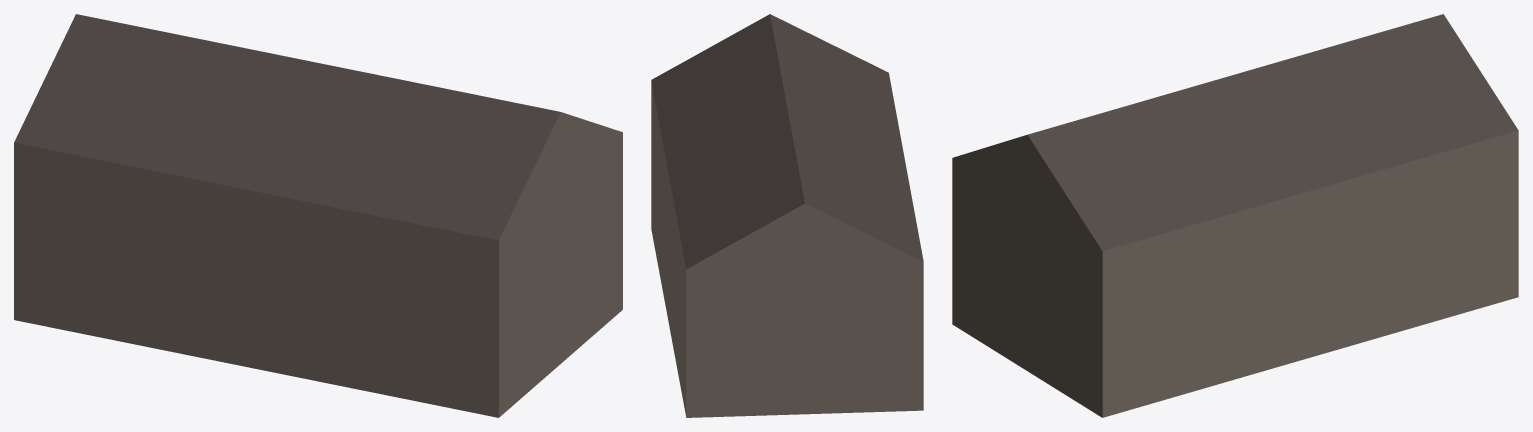
The picture shows the model from 3 angles, left to right: view 1: azimuth 30°, elevation 25°; view 2: azimuth 150°, elevation 25°; view 3: azimuth 270°, elevation 25°; orthographic projection. The views are drawn at different scales.
Visible parts, largest first — view 1: HP-w133465399; view 2: HP-w133465399; view 3: HP-w133465399.
Boxes of the visible parts, x1,y1,x2,y2 form: HP-w133465399: (14,14,622,417); HP-w133465399: (651,14,923,417); HP-w133465399: (952,14,1518,417).
Size of the model in its own units: 16.54 by 8.52 by 18.48.
